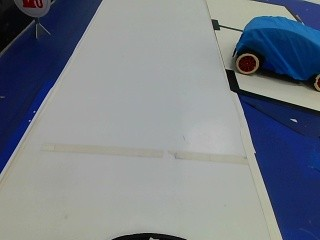battery: (15, 0, 49, 14)
car: (225, 12, 318, 89)
